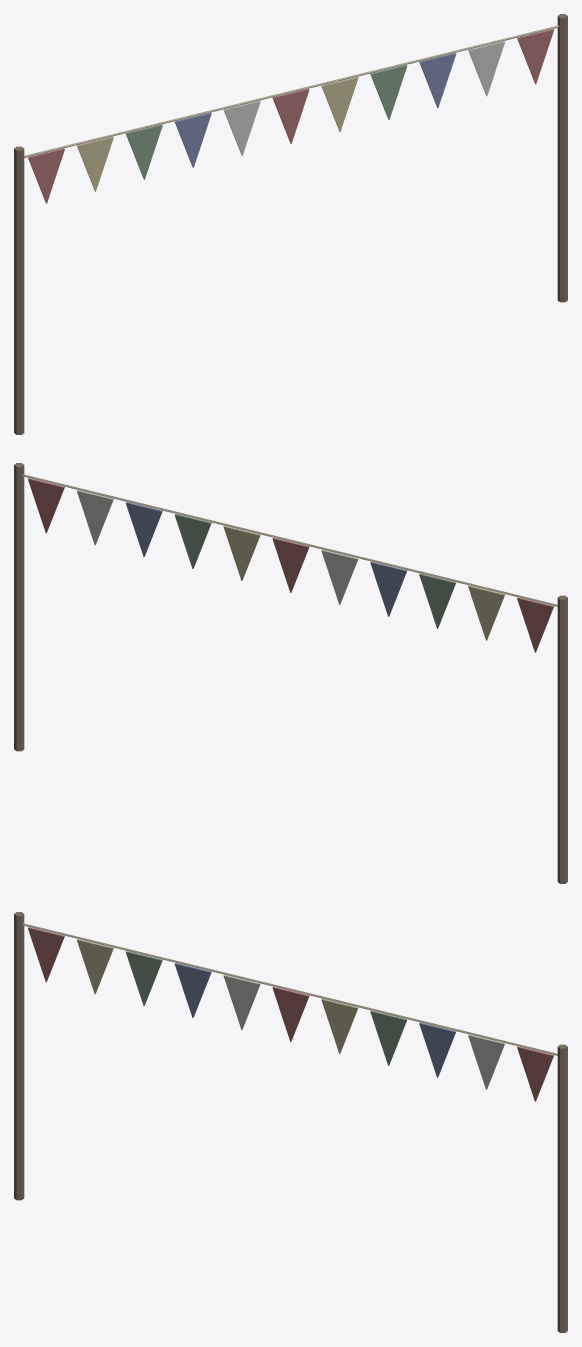
The model's file is prayer_flags.gltf.
3 renders of one model, top to bottom at view 1: azimuth 30°, elevation 25°; view 2: azimuth 150°, elevation 25°; view 3: azimuth 330°, elevation 25°, orthographic.
Parts seen in each view (by area): view 1: Body; view 2: Body; view 3: Body.
Part boxes in pixels (x1=…): Body: x1=14, y1=14, x2=567, y2=434; Body: x1=14, y1=463, x2=567, y2=883; Body: x1=14, y1=912, x2=567, y2=1332.
Size of the model in its own units: 6.09 by 3 by 0.1.
